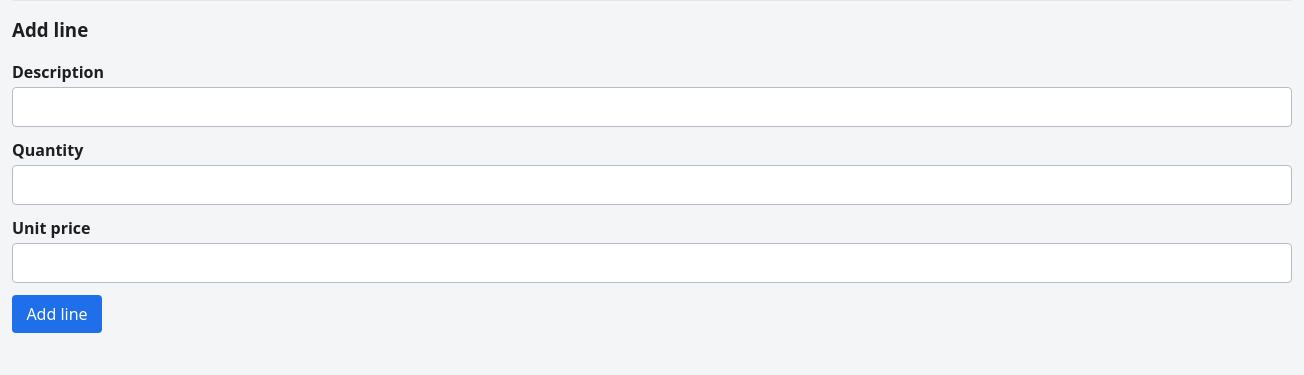
Scenario: T-11 OrderLineForm › rejects unit price -5
Type "Widget" into the field labelled "Description" at (652, 107), box x1=12 y1=87 x2=1292 y2=127
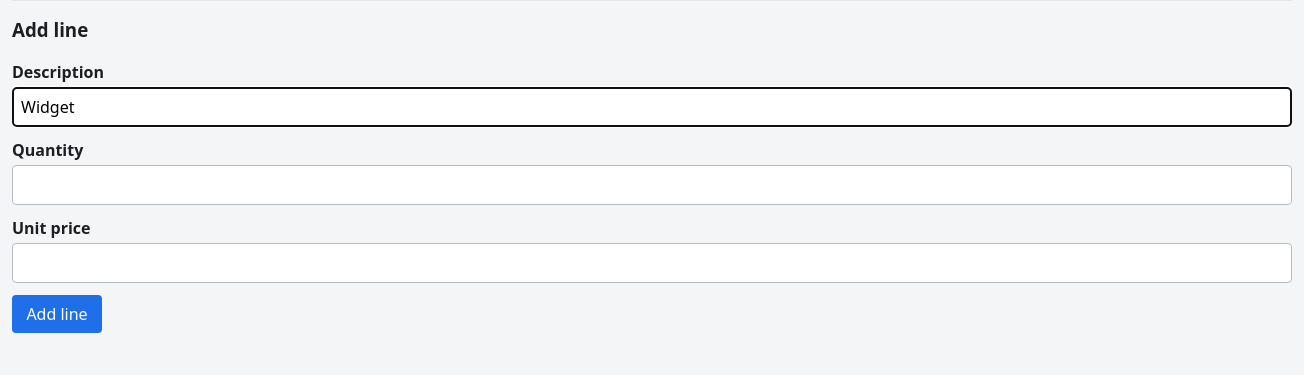
Type "1" into the field labelled "Quantity" at (652, 185), box x1=12 y1=165 x2=1292 y2=205
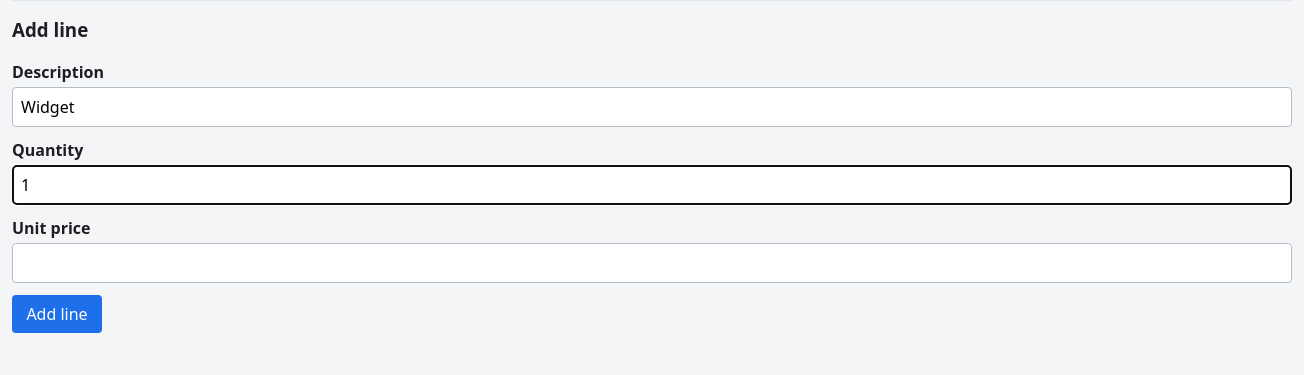
Type "-5" into the field labelled "Unit price" at (652, 263), box x1=12 y1=243 x2=1292 y2=283
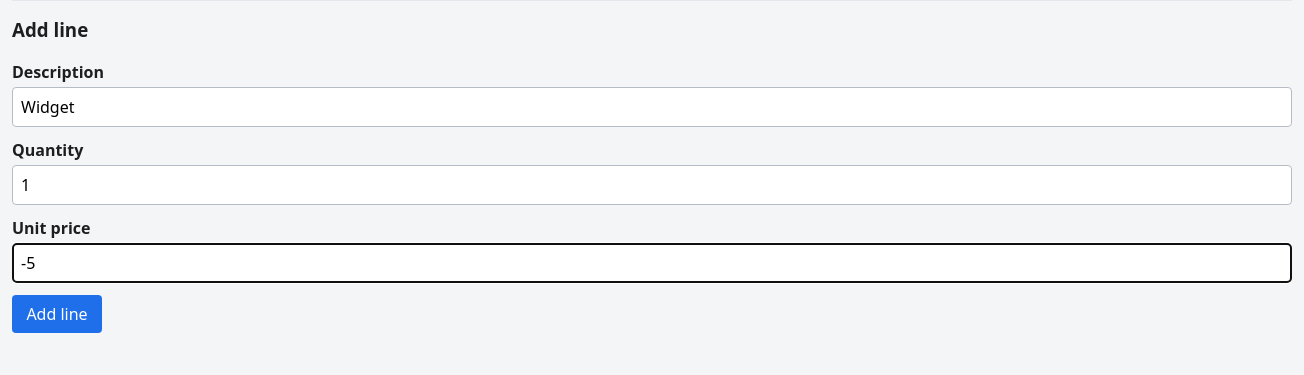
Click the button "Add line" at (57, 314), box x1=12 y1=295 x2=102 y2=333
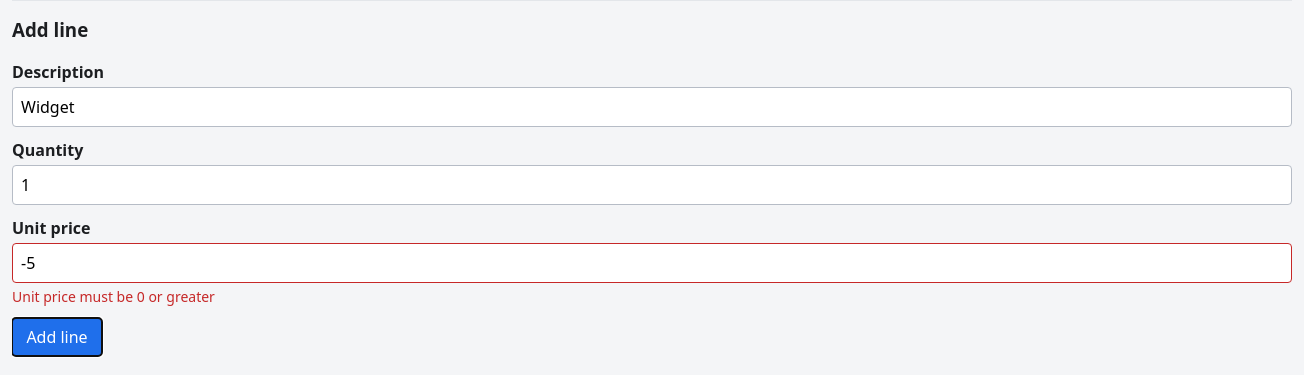
Expected: the text "Unit price must be 0 or greater" is shown, x1=12 y1=287 x2=215 y2=306
